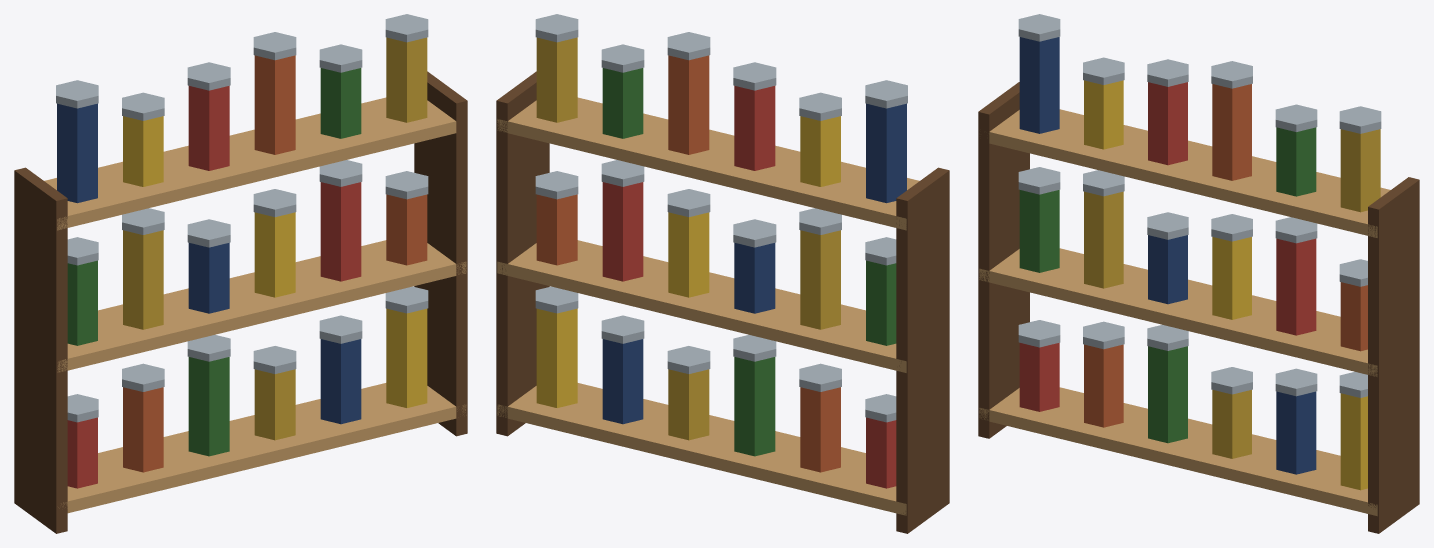
The model's file is GH_JarShelf_01.glb.
3 renders of one model, left to right at view 1: azimuth 30°, elevation 25°; view 2: azimuth 150°, elevation 25°; view 3: azimuth 330°, elevation 25°, orthographic. The views are drawn at different scales.
Parts seen in each view (by area): view 1: GH_JarShelf_01; view 2: GH_JarShelf_01; view 3: GH_JarShelf_01.
Part boxes in pixels (x1,y1,x2,y2): GH_JarShelf_01: (14,14,467,533); GH_JarShelf_01: (496,14,949,533); GH_JarShelf_01: (978,14,1419,533).
Bounding box in the file's own units: 0.905 × 0.8785 × 0.16.
1 material, 1 textured.
